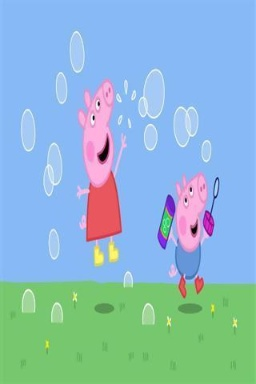Peppa: (71, 79, 134, 269)
